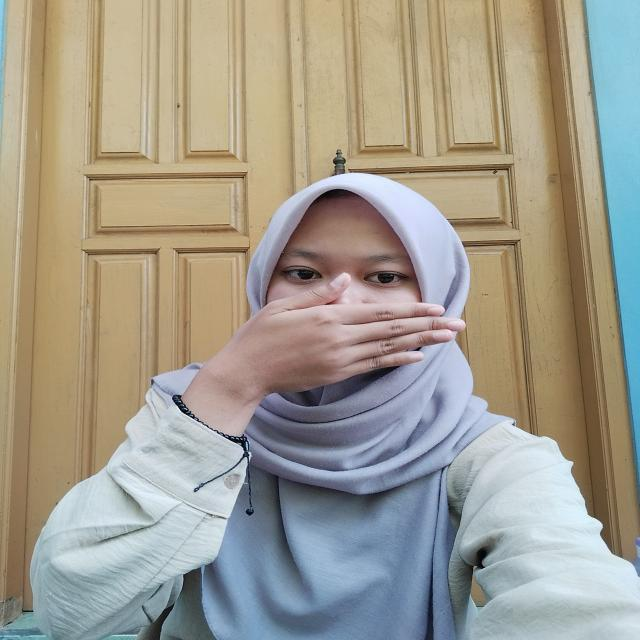buruk: (188, 280, 476, 406)
